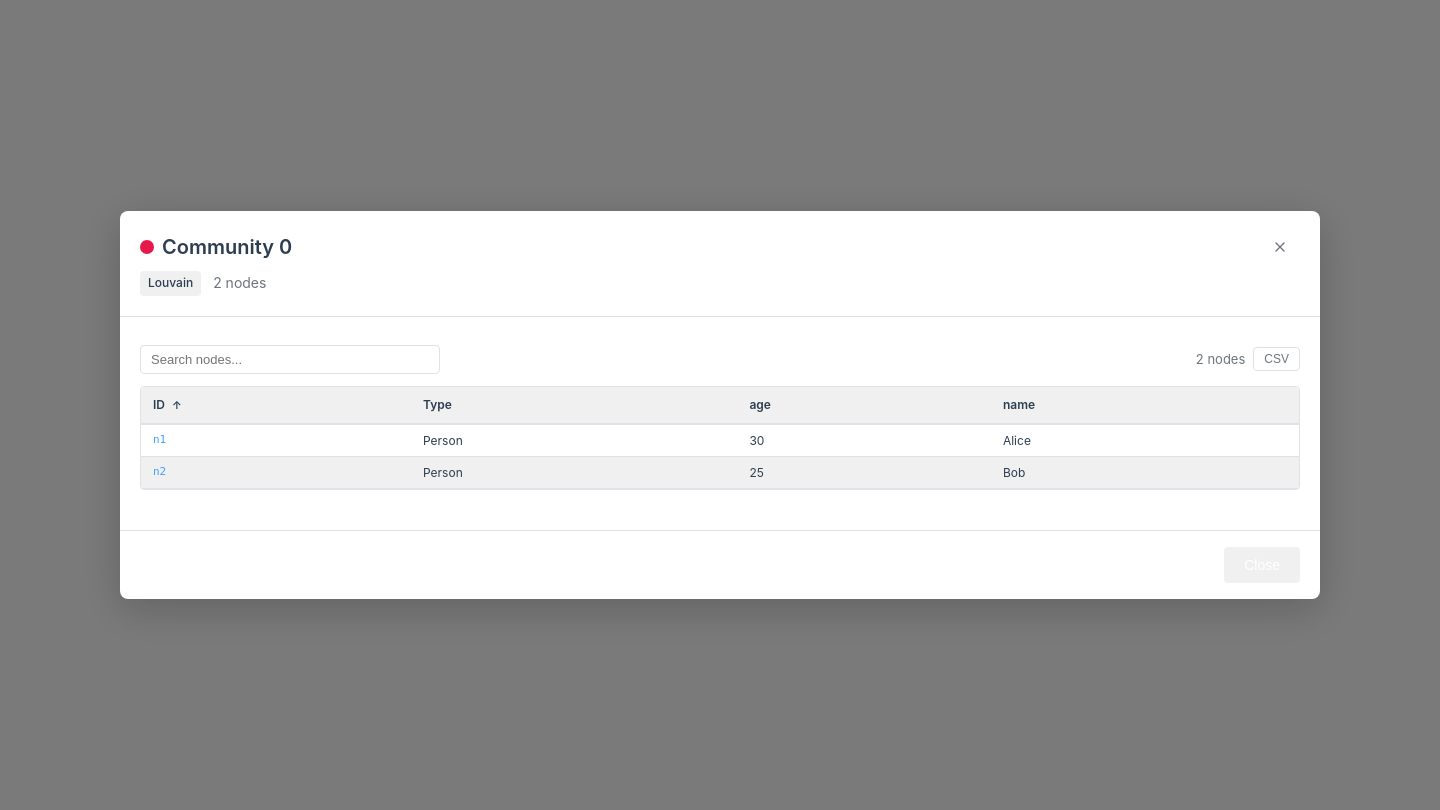
Test: CommunityNodeModal › shows empty state when search matches nothing
Type "zzz-no-match" into the field with class "table-search" at (290, 359), box [140,345,440,374]
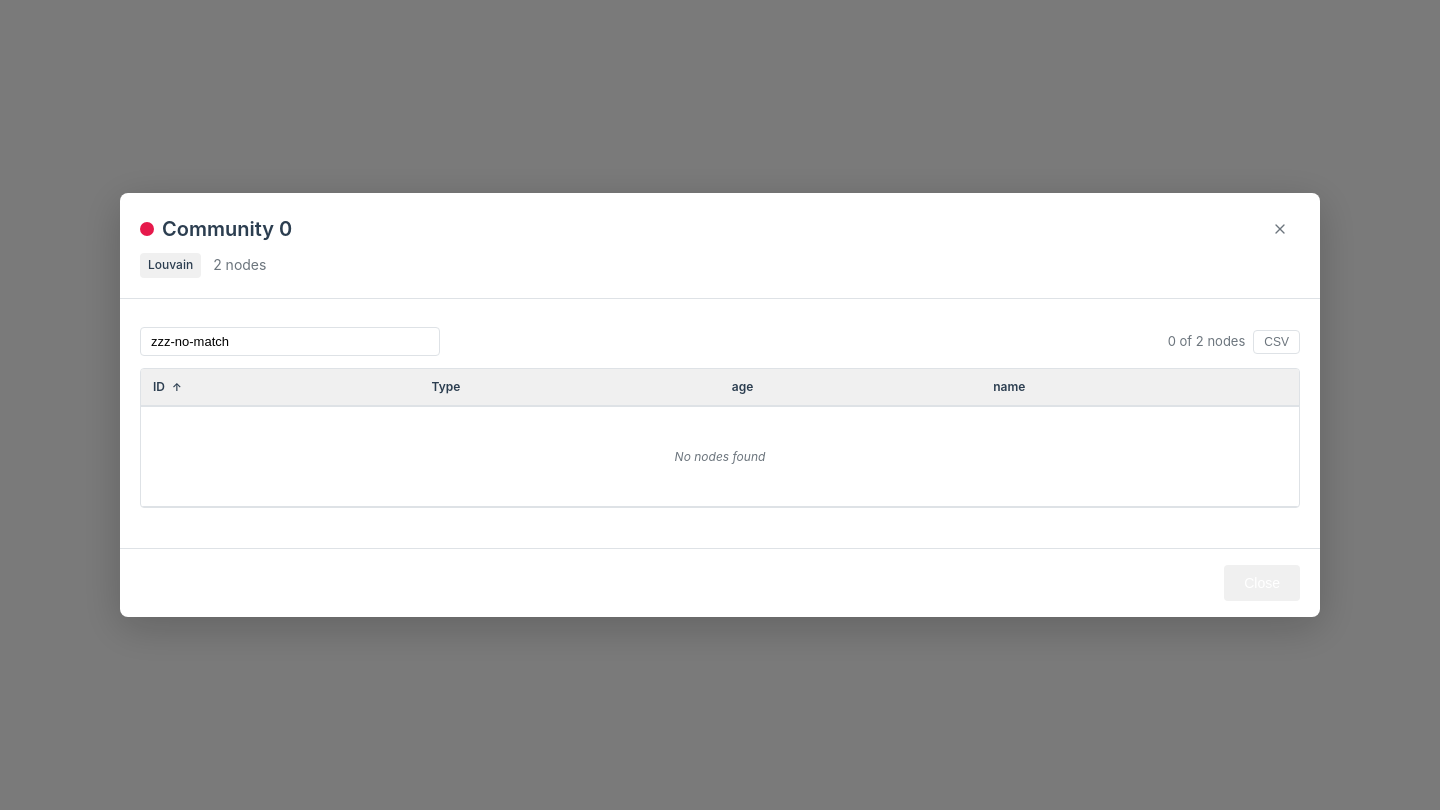
Now the cell with class "no-data" reads "No nodes found", box [675,449,765,464]
